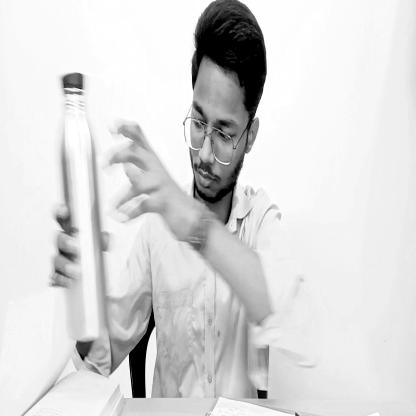Distracted: (188, 8, 260, 205)
